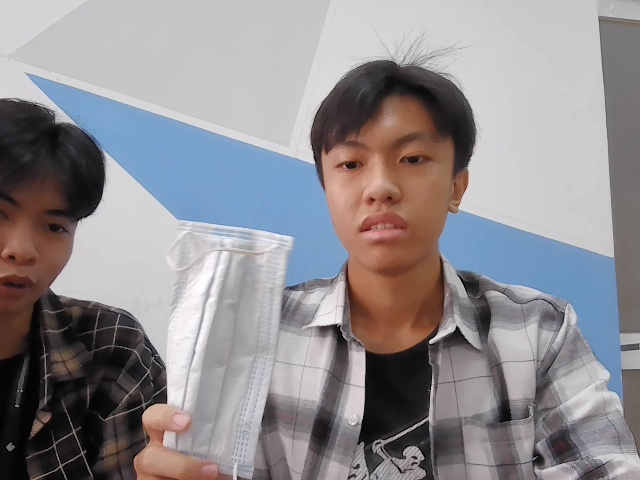human: (316, 60, 476, 268), (1, 96, 106, 313)
mask: (167, 217, 275, 470)
